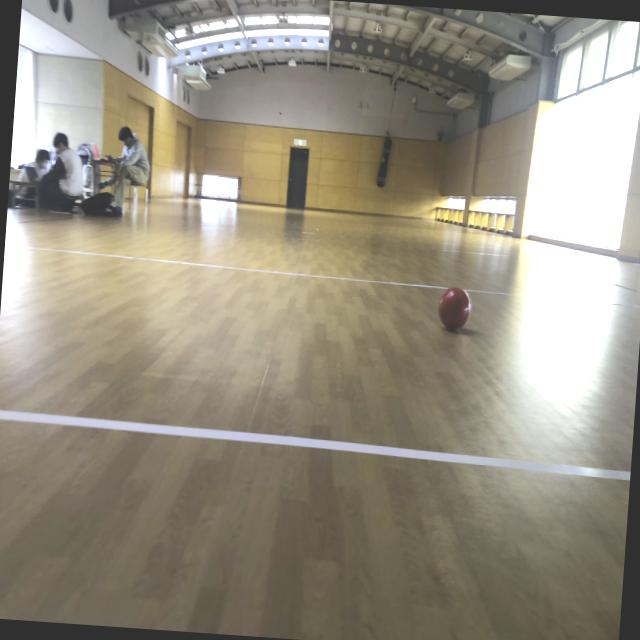red_ball: (437, 286, 472, 335)
